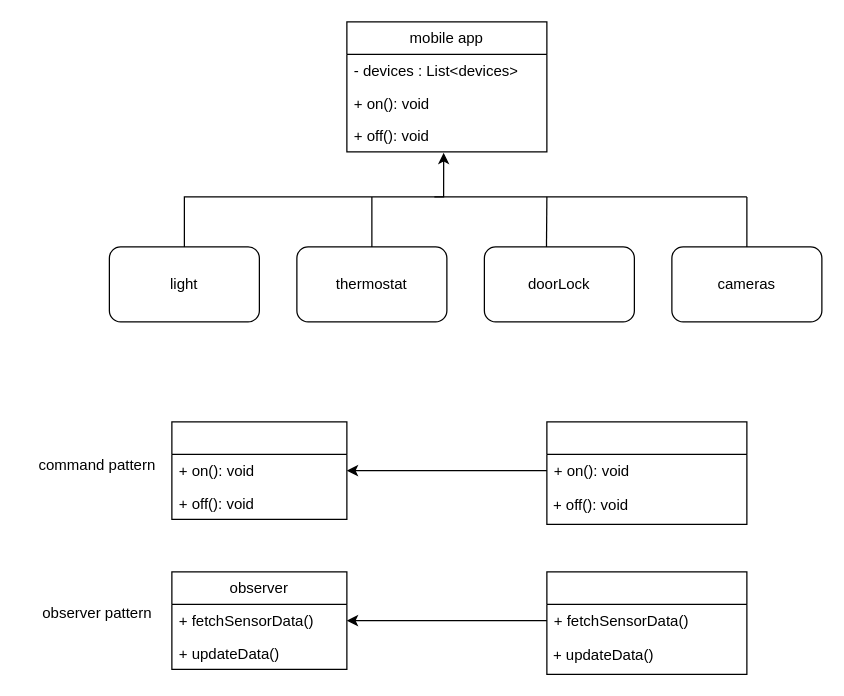
The diagram is 844 pixels wide and 696 high, and some of its shapes have lost their labels. The box of each missing label's shape, as (x1, y1, x2, y2) in pixels:
command: (171, 421, 347, 519)
device: (546, 571, 747, 674)
execute: (546, 421, 747, 524)
